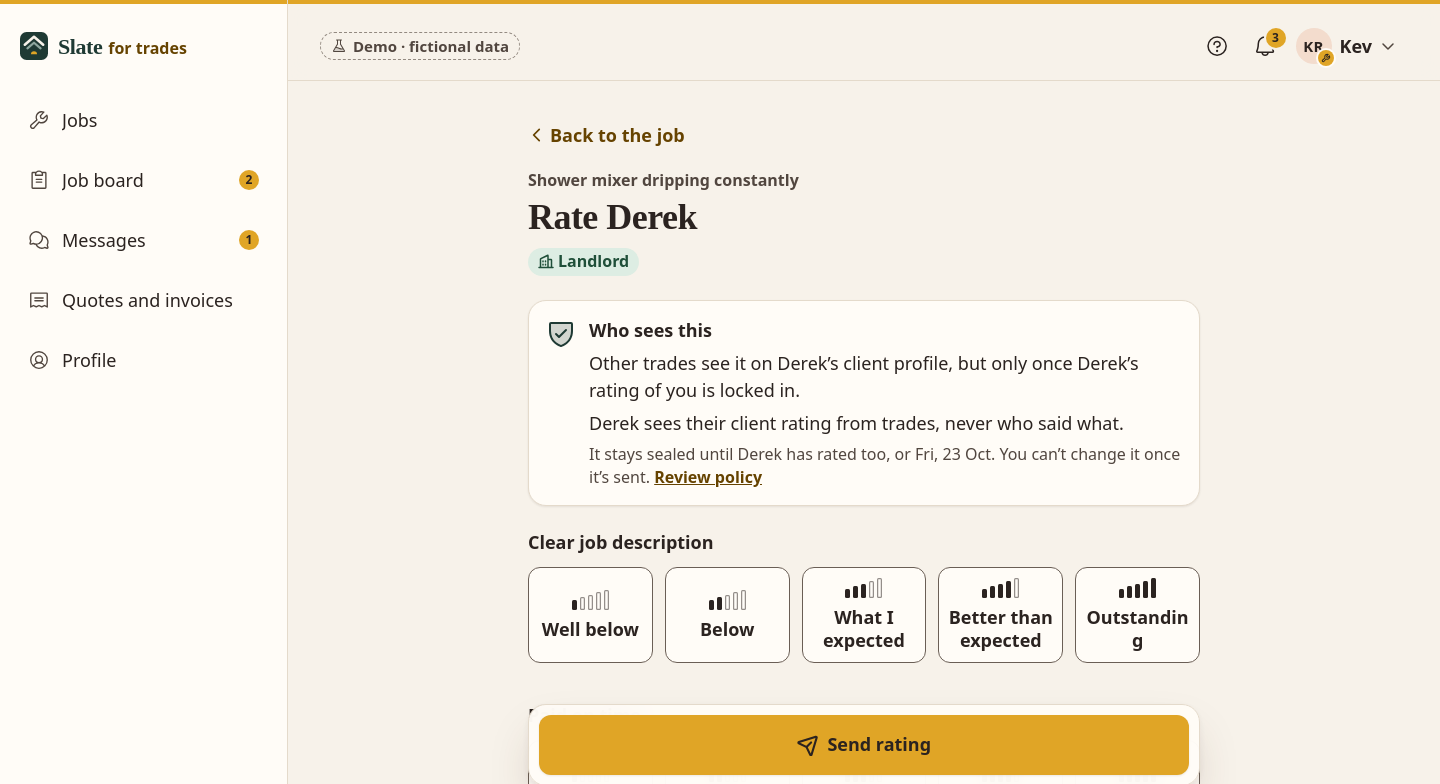
Test: rating the landlord › keeps a draft private until it is sent
Check: the heading "Rate Derek" is shown, box [528, 197, 697, 237]
Click the radio button labelled "Better than expected".
click(1001, 615)  # box [938, 567, 1063, 663]
(page scrolled)
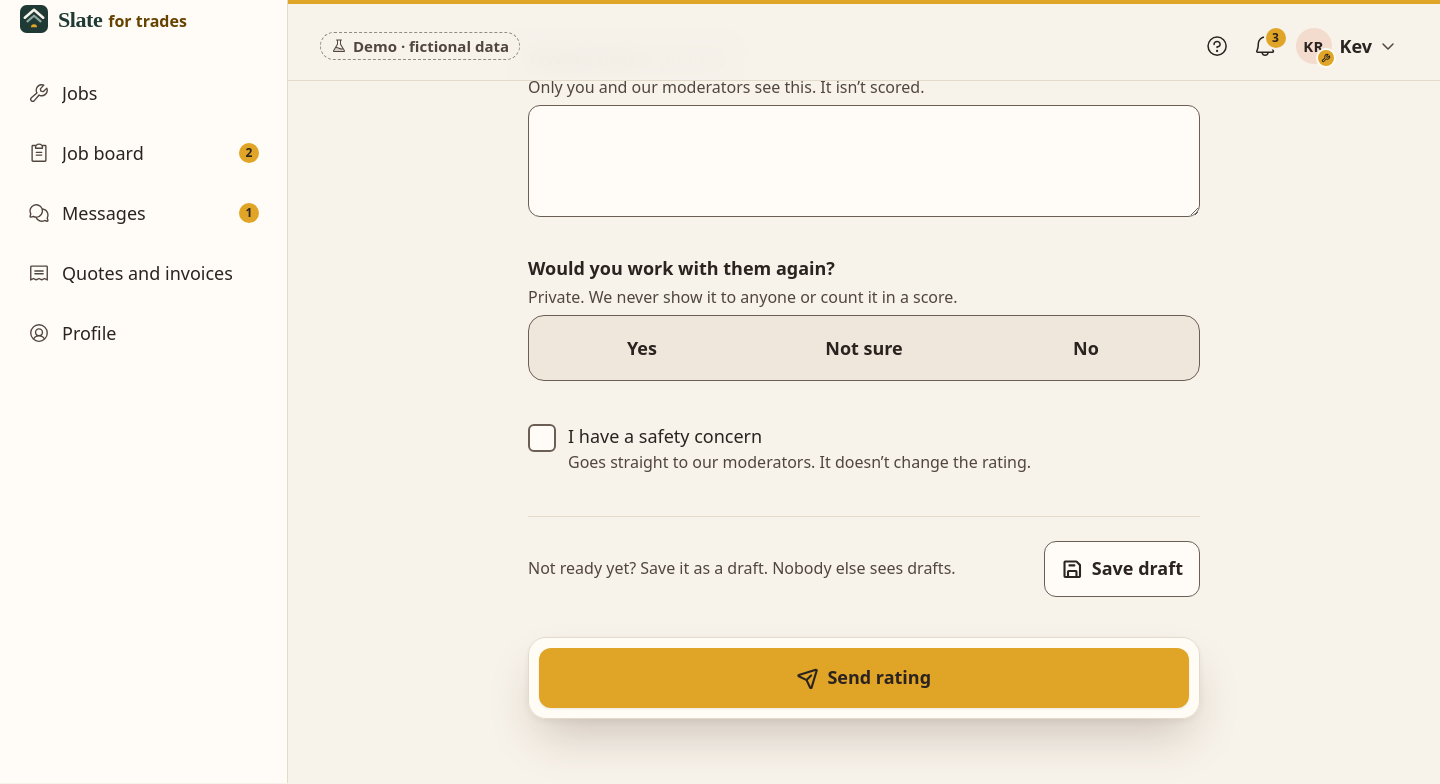
Click the button "Save draft".
click(1122, 569)  # box [1044, 541, 1200, 597]
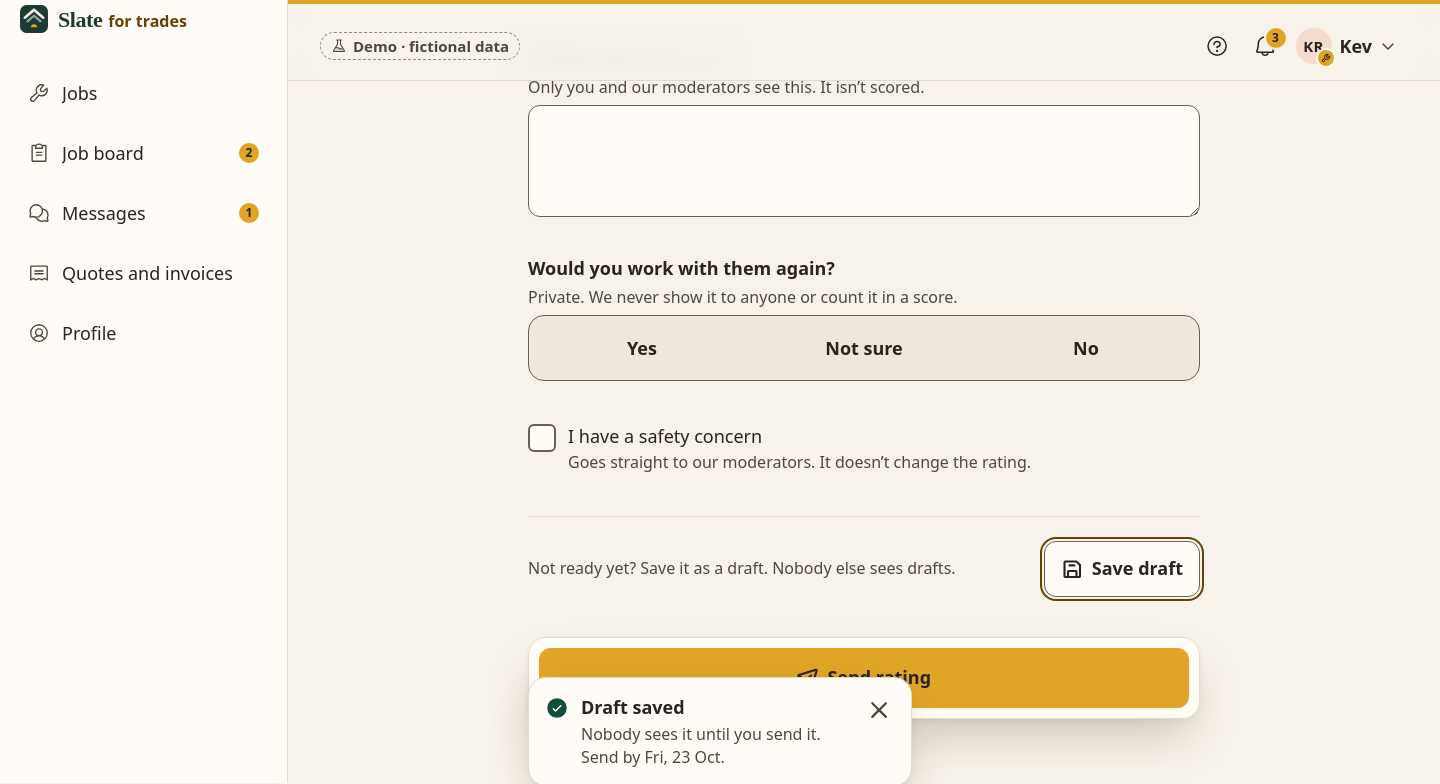
Check: the heading "Draft saved" is shown, box [581, 695, 685, 719]
